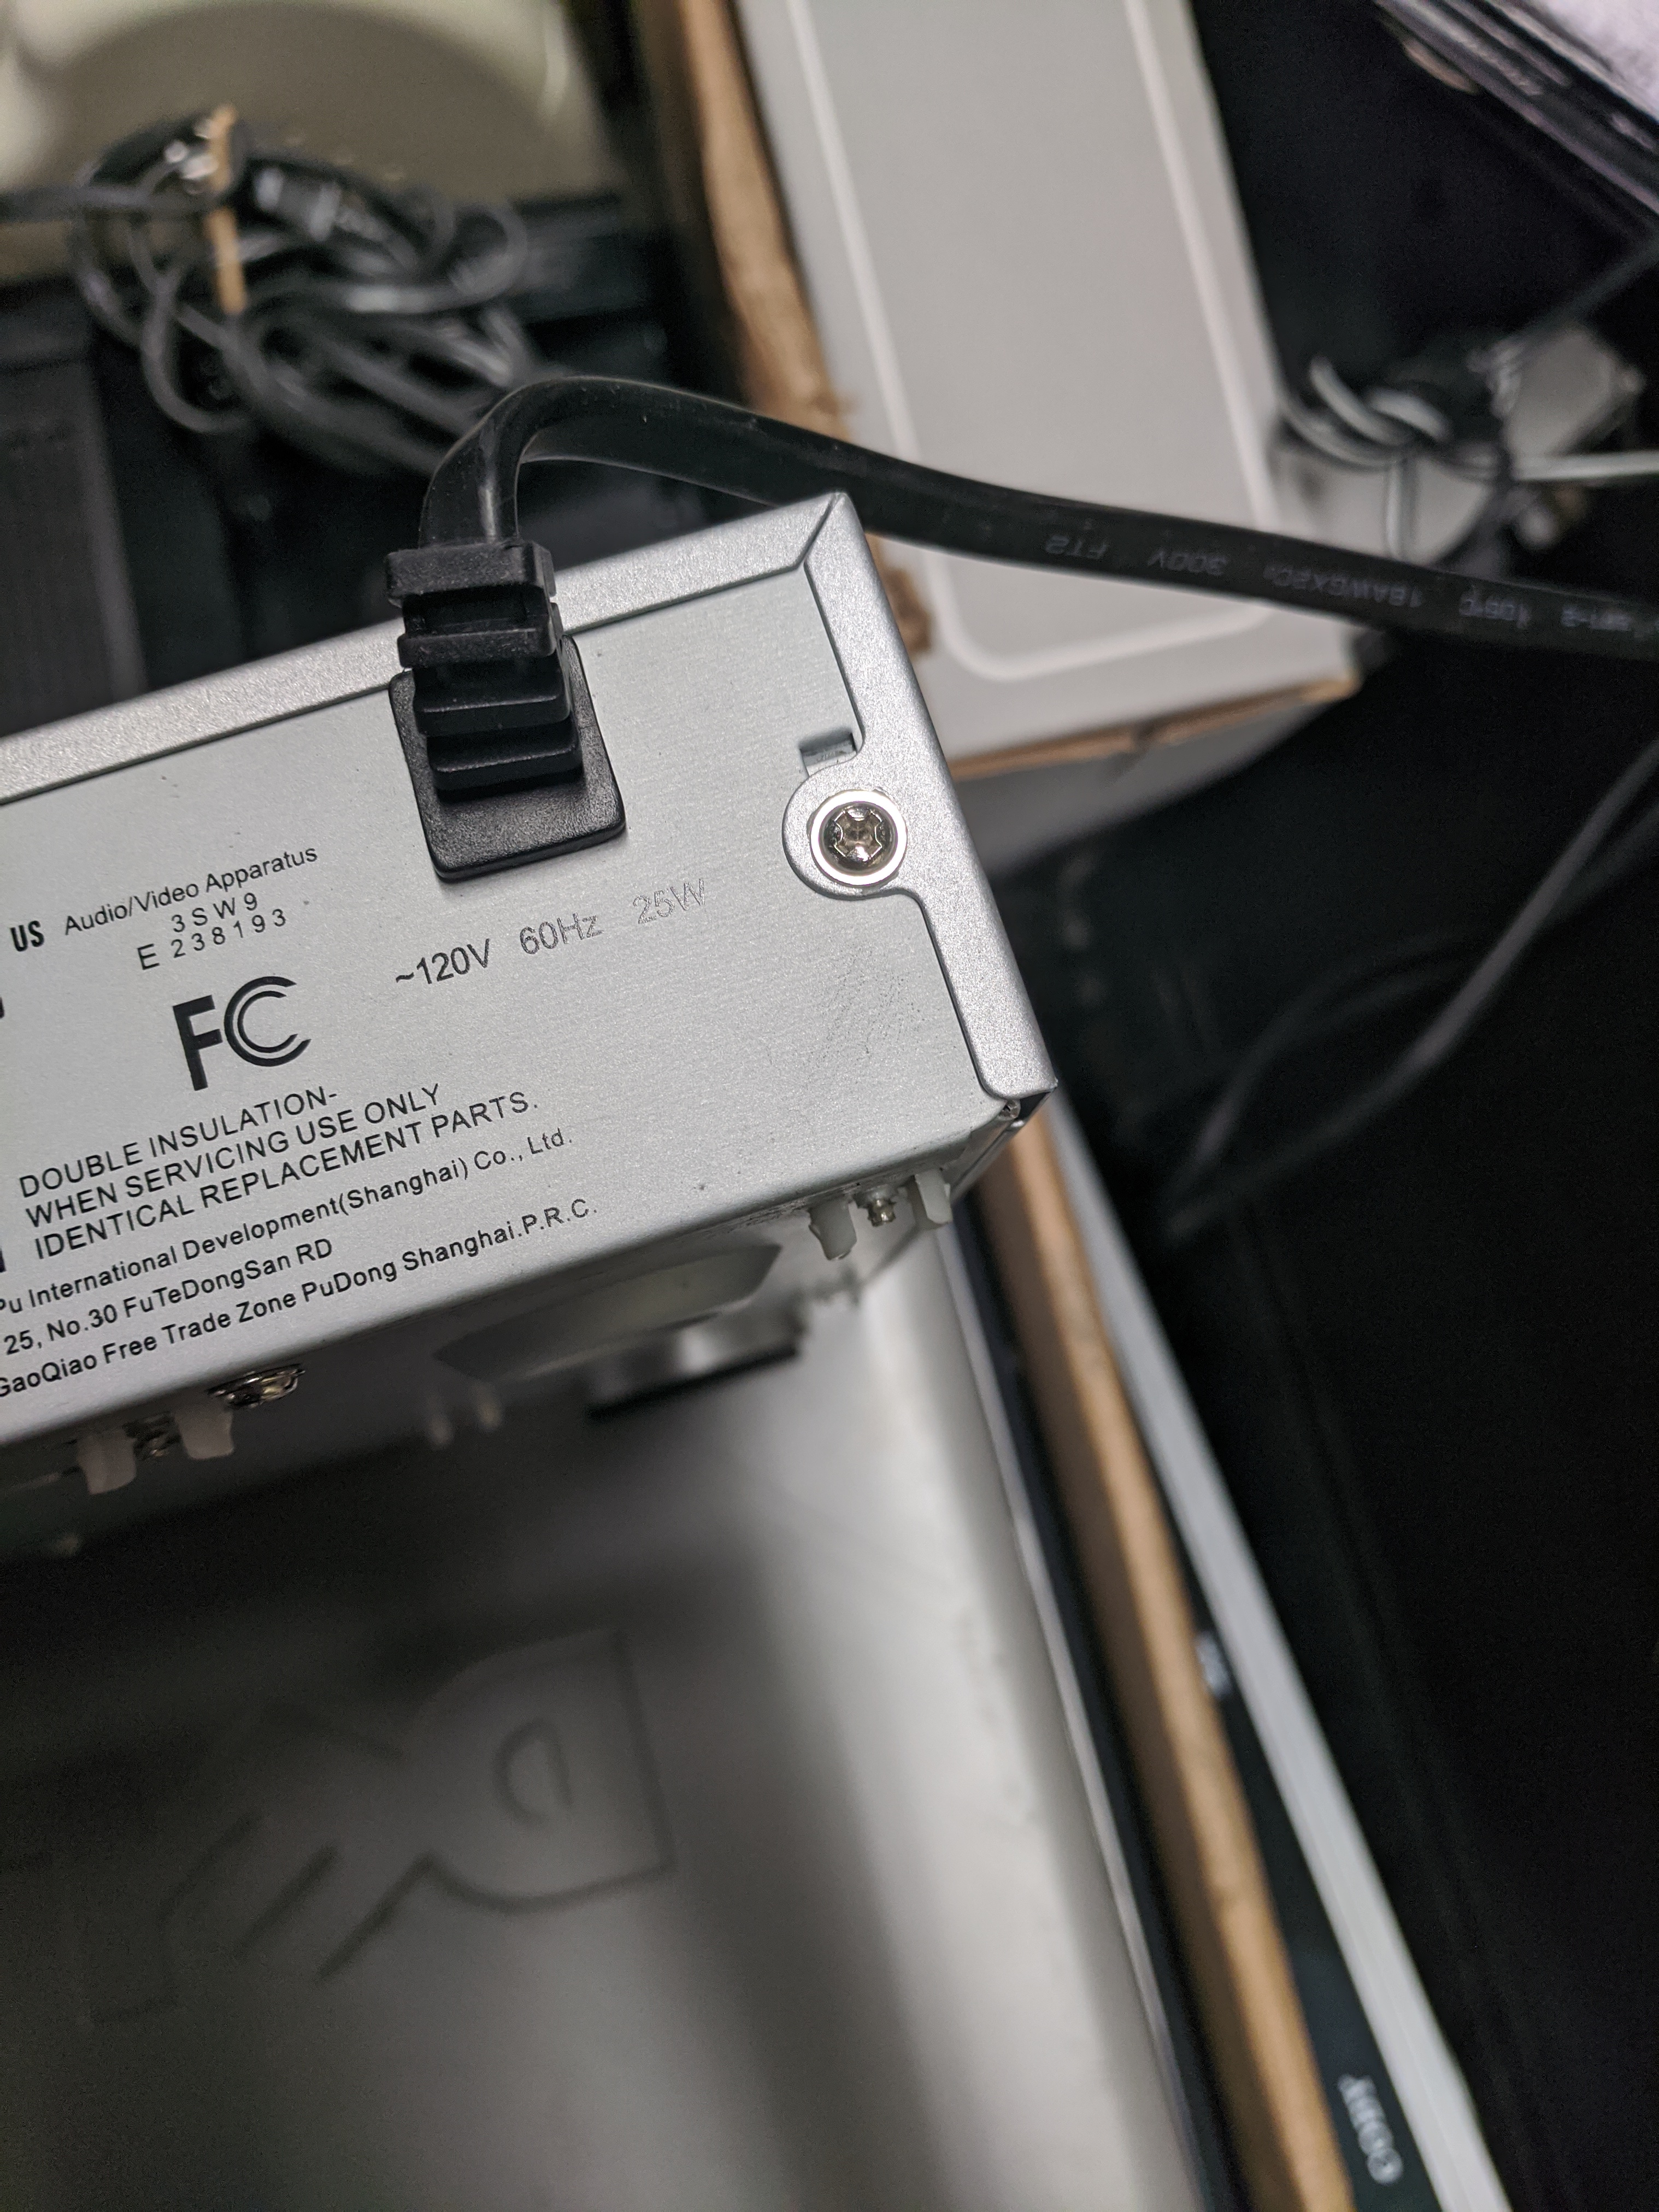cross_recessed_screw: (802, 787, 913, 885)
